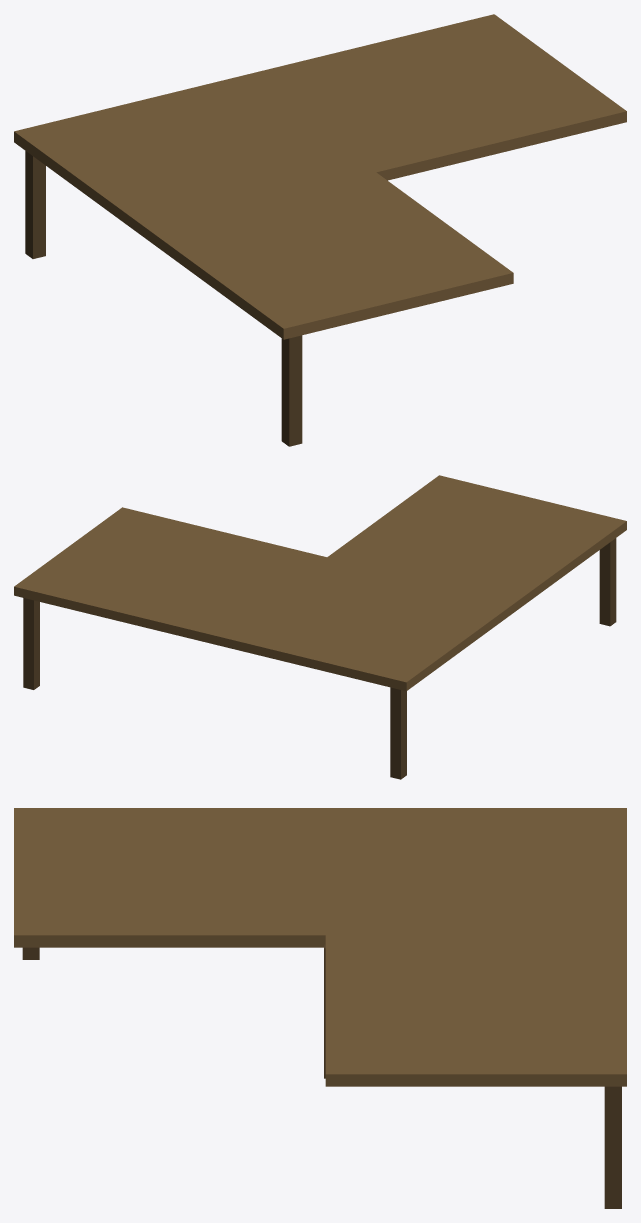
Rendered from l-desk.glb.
3 renders of one model, top to bottom at view 1: azimuth 30°, elevation 25°; view 2: azimuth 150°, elevation 25°; view 3: azimuth 270°, elevation 25°, orthographic. The views are drawn at different scales.
Size of the model in its own units: 1.84 by 0.45 by 1.79.
